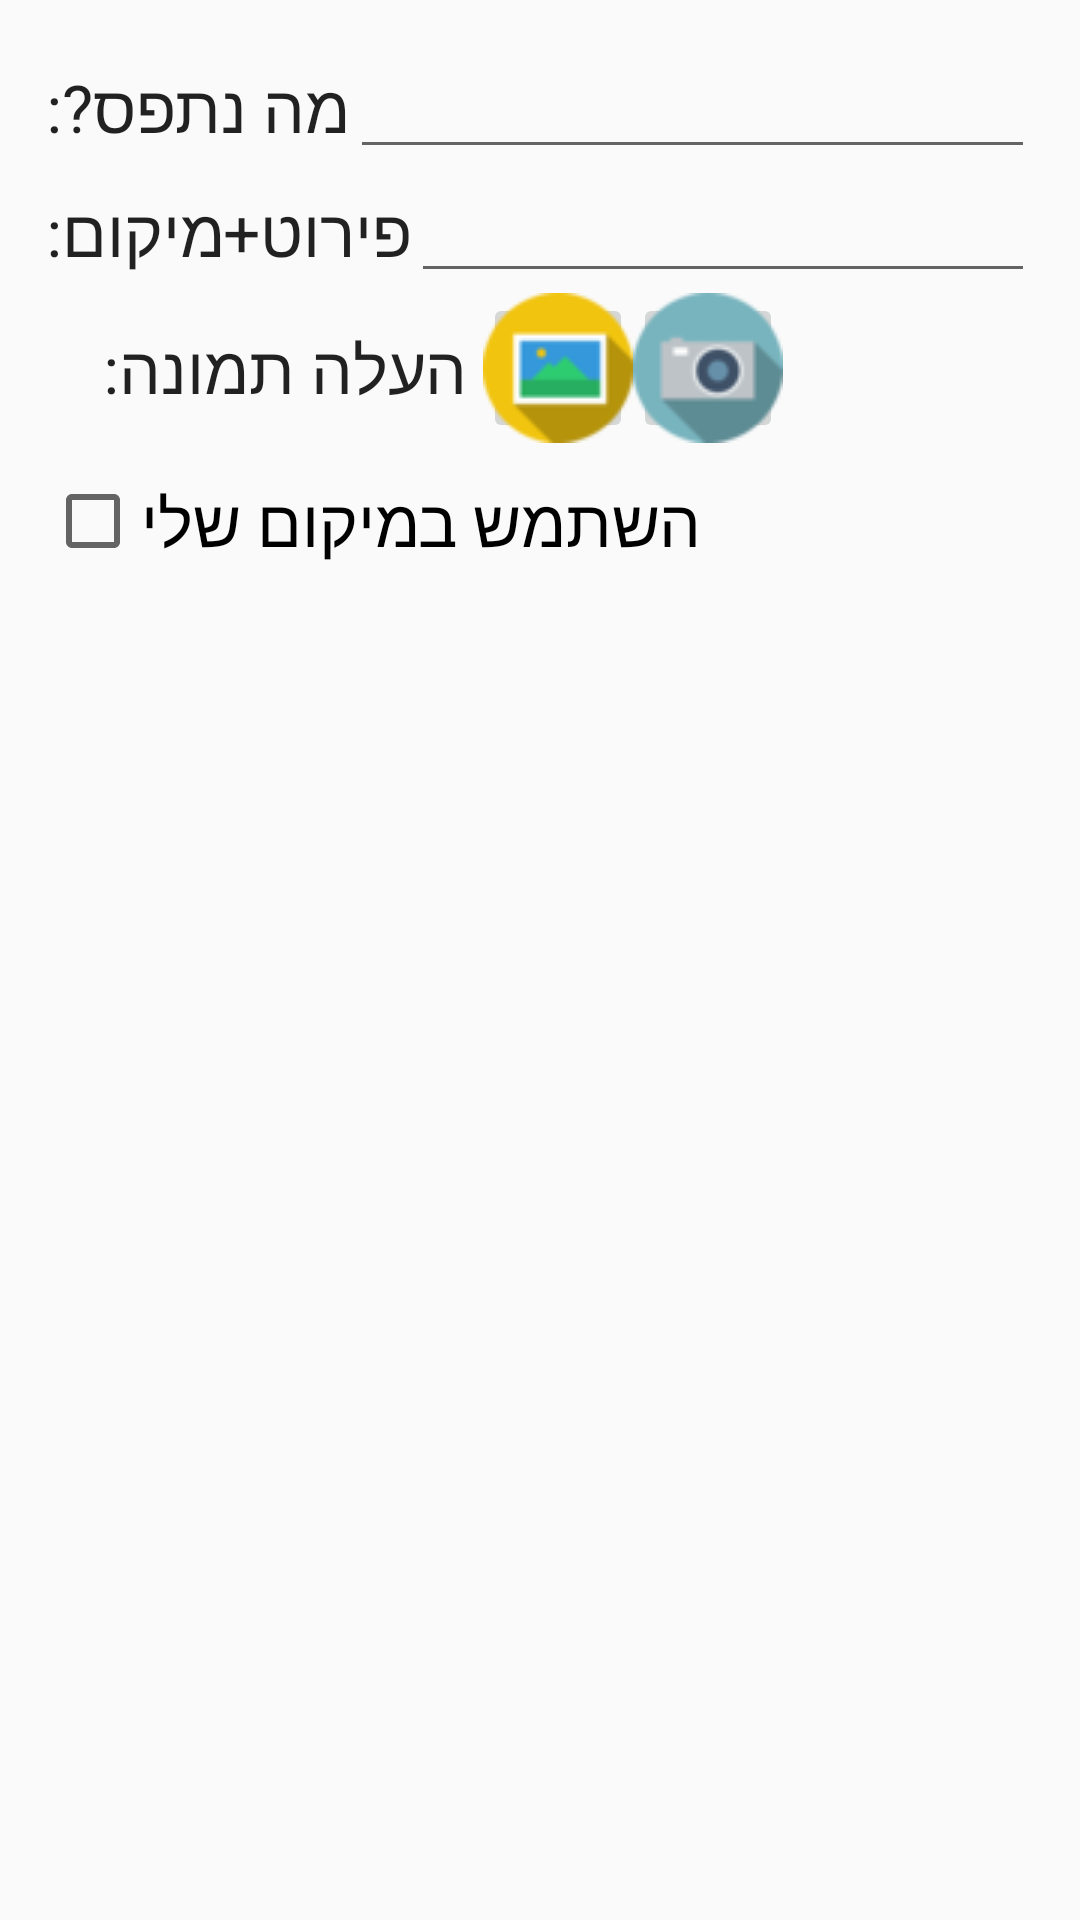

Screen size 1080px x 1920px. Icon name, then its center in pixels as point (x, y):
cam: point (708, 368)
gal: point (558, 368)
